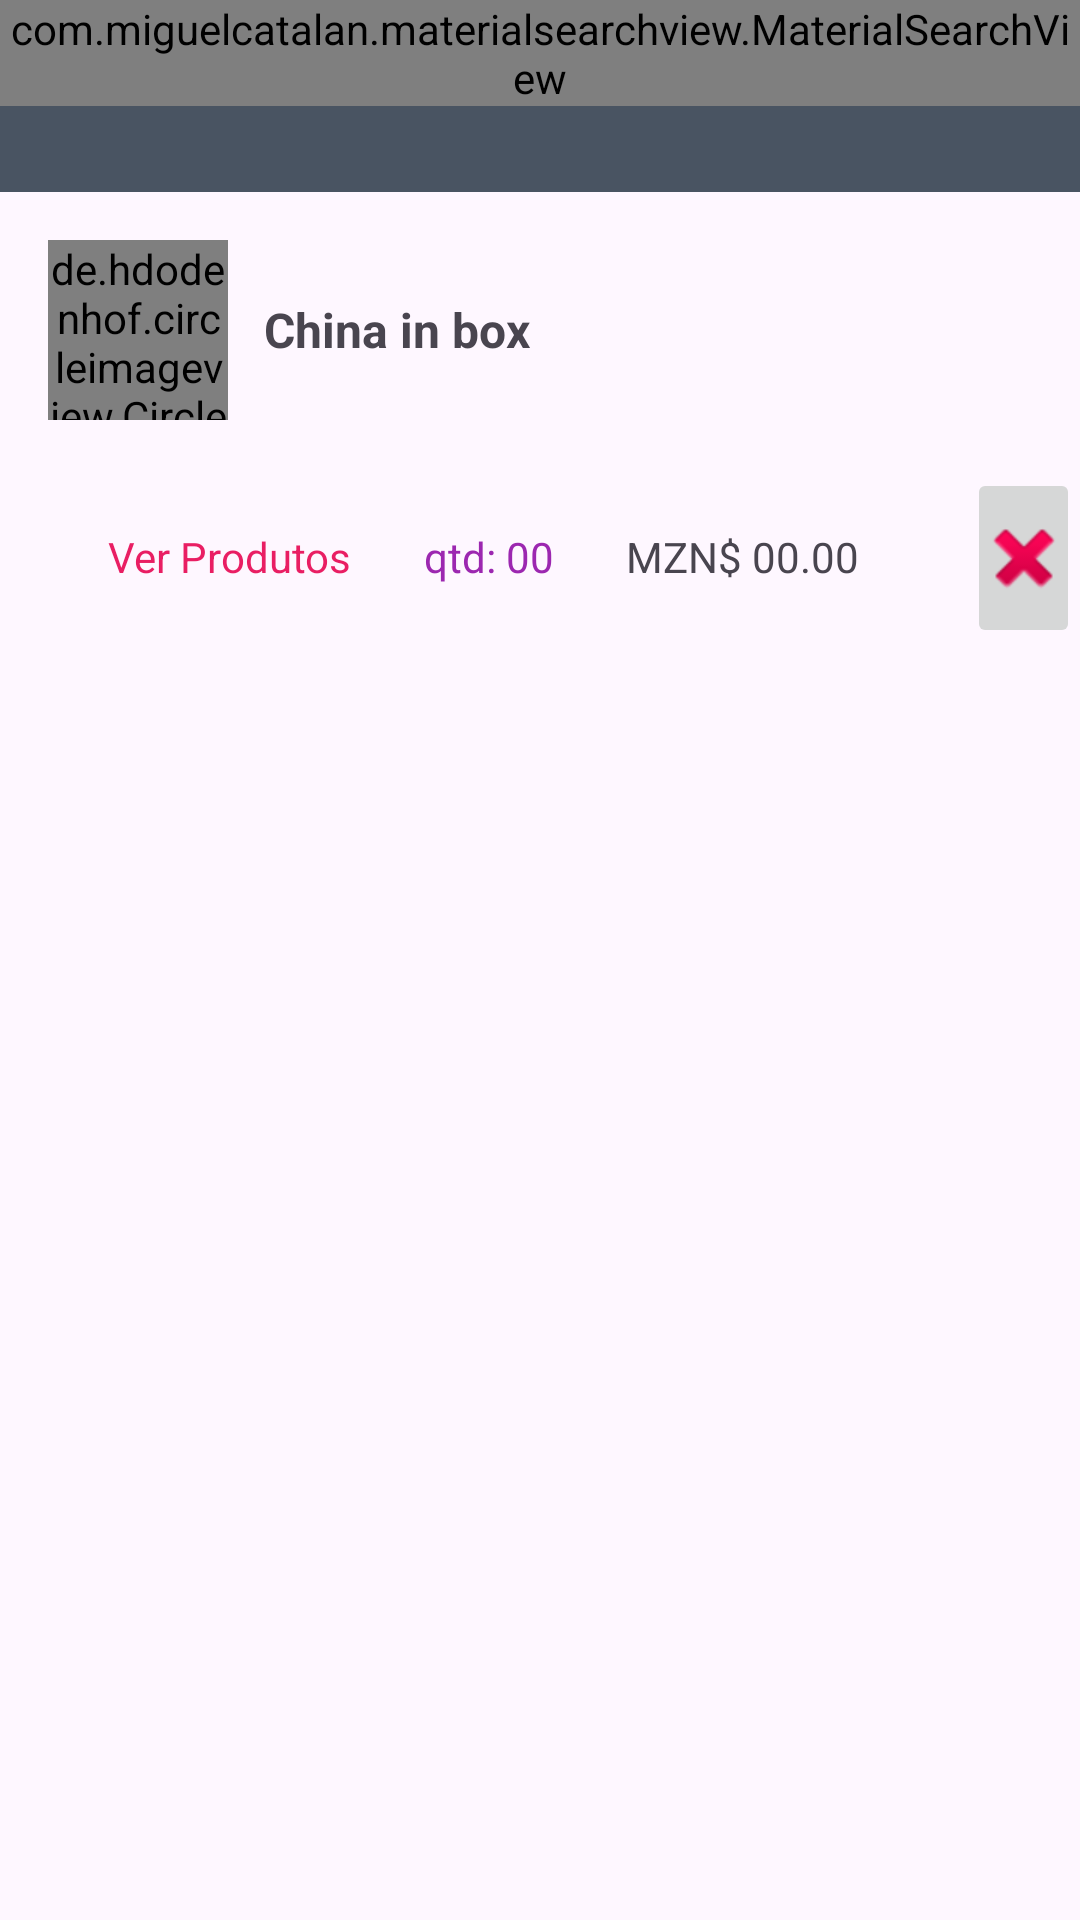

Icon bounding boxes for this 1080*1920 phone screenshot, format box(x1, y1, x2, y2):
Del: box(979, 486, 1068, 630)
